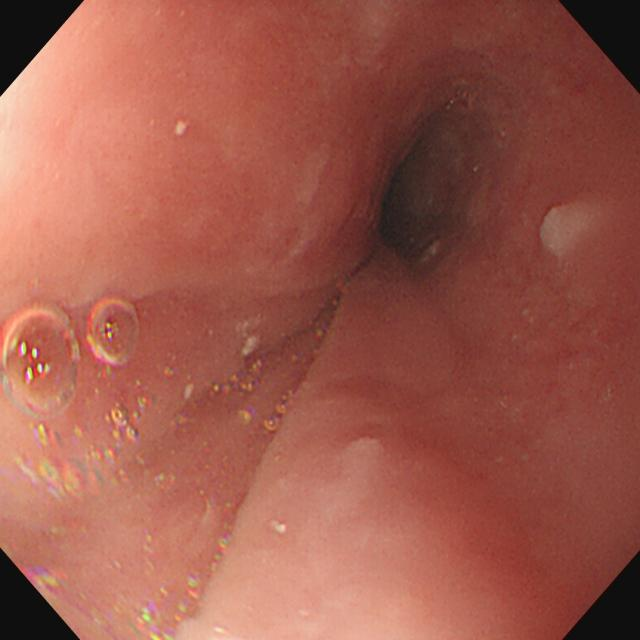E: (375, 120, 486, 265)
J: (536, 197, 594, 259)
T: (2, 296, 148, 497), (134, 509, 236, 640), (213, 366, 298, 431)
